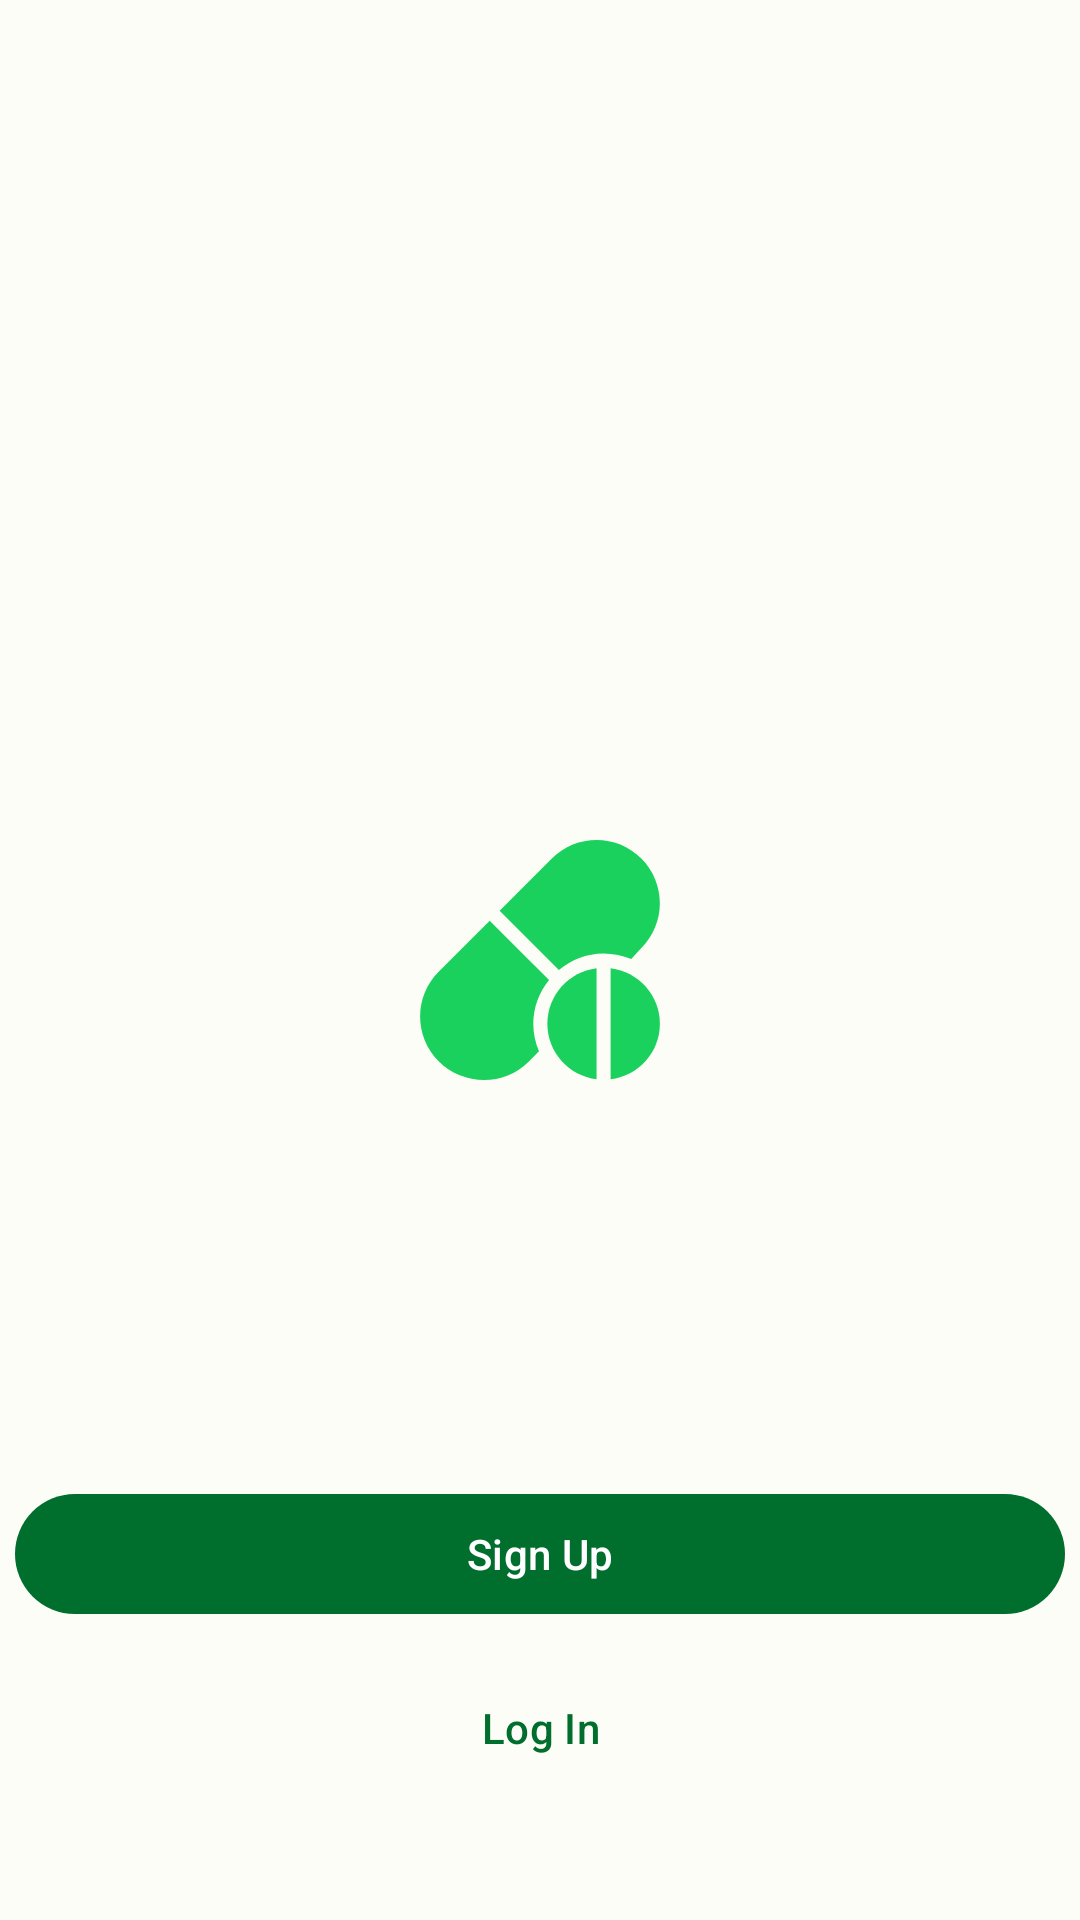

Named icons in this screenshot (1080*1920) and their centers, point (x, y):
App icon: point (540, 960)
